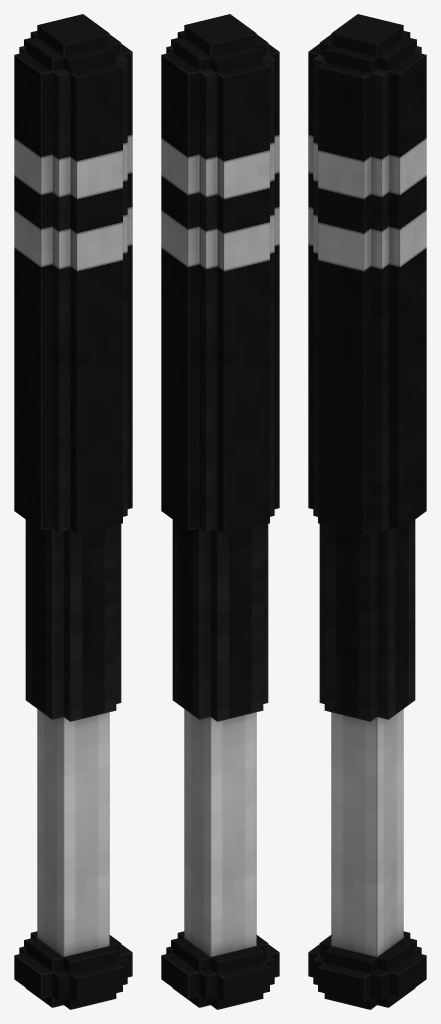
The model's file is RD_BAT_ANARCHY.glb.
The picture shows the model from 3 angles, left to right: view 1: azimuth 30°, elevation 25°; view 2: azimuth 210°, elevation 25°; view 3: azimuth 330°, elevation 25°; orthographic projection.
Parts seen in each view (by area): view 1: BAT; view 2: BAT; view 3: BAT.
Boxes of the visible parts, x1,y1,x2,y2 form: BAT: [14, 14, 132, 1009]; BAT: [161, 14, 279, 1009]; BAT: [308, 14, 426, 1009].
Bounding box in the file's own units: 0.1102 × 1.1 × 0.1102.
Materials: 1 (1 with a texture image).
